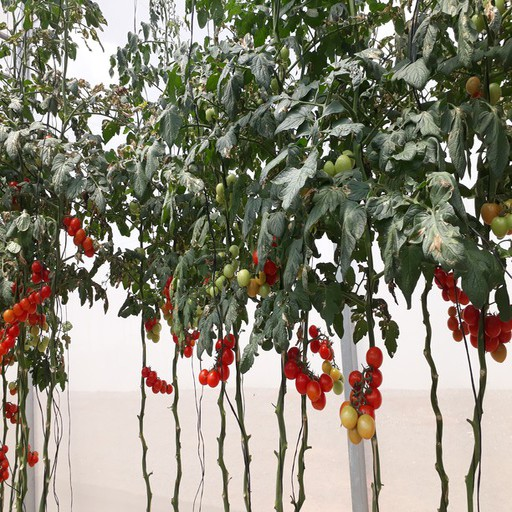green tomato bunch: (205, 245, 251, 300), (464, 73, 511, 116), (264, 46, 290, 95), (319, 147, 358, 178), (484, 198, 512, 240), (215, 173, 238, 204)
mixed tomato bunch: (159, 274, 198, 357), (307, 327, 348, 396), (245, 233, 280, 299), (141, 307, 162, 342)
red tomato bunch: (281, 345, 334, 411), (463, 305, 512, 366), (432, 267, 471, 341), (4, 281, 53, 328), (57, 214, 100, 257), (199, 332, 232, 386), (140, 366, 174, 394), (27, 256, 55, 285), (20, 441, 39, 468), (2, 397, 20, 425), (1, 441, 9, 485)
